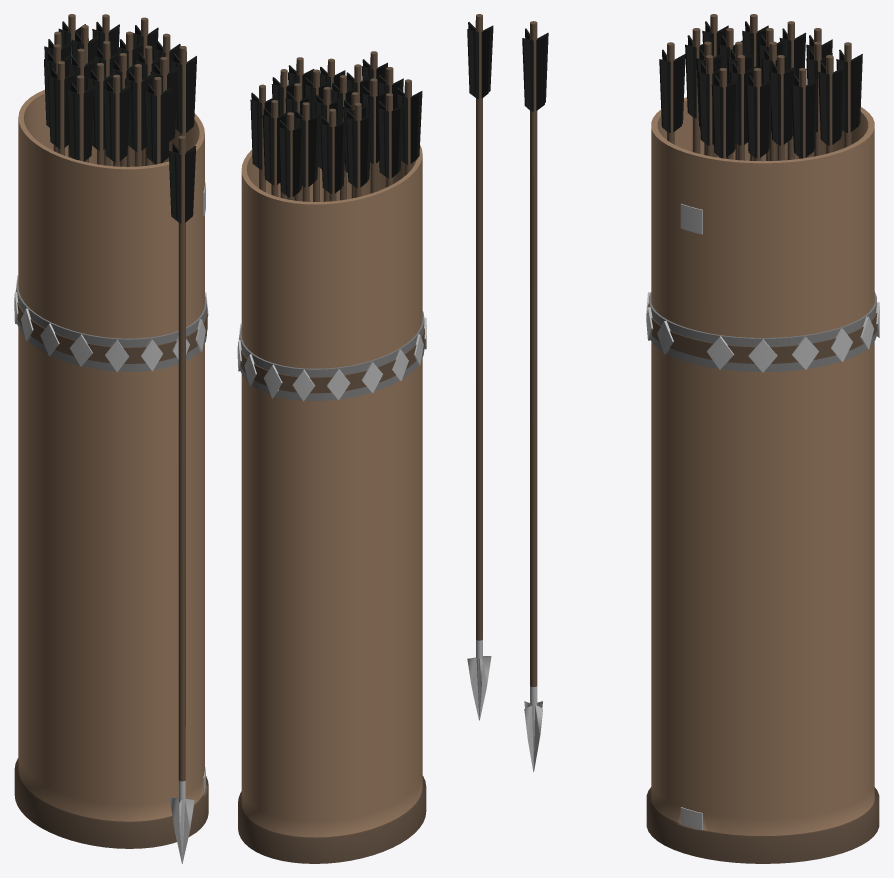
Rendered from Quiver & Arrows.fbx.
3 renders of one model, left to right at view 1: azimuth 30°, elevation 25°; view 2: azimuth 150°, elevation 25°; view 3: azimuth 270°, elevation 25°, orthographic. The views are drawn at different scales.
Parts seen in each view (by area): view 1: obj_quiver, obj_arrow21, obj_arrow08, obj_arrow18, obj_arrow09, obj_arrow10, obj_arrow17, obj_arrow01, obj_arrow07, obj_arrow11, obj_arrow20, obj_arrow14 (+9 smaller); view 2: obj_quiver, obj_arrow21, obj_arrow20, obj_arrow05, obj_arrow10, obj_arrow19, obj_arrow09, obj_arrow04, obj_arrow14, obj_arrow15, obj_arrow07, obj_arrow03 (+6 smaller); view 3: obj_quiver, obj_arrow21, obj_arrow18, obj_arrow14, obj_arrow16, obj_arrow15, obj_arrow17, obj_arrow13, obj_arrow19, obj_arrow08, obj_arrow11, obj_arrow12 (+4 smaller).
Part boxes in pixels (x1,y1,x2,y2): obj_quiver: [14, 90, 208, 848]; obj_arrow21: [168, 135, 196, 863]; obj_arrow08: [103, 74, 130, 166]; obj_arrow18: [144, 77, 171, 164]; obj_arrow09: [67, 75, 94, 161]; obj_arrow10: [48, 61, 75, 155]; obj_arrow17: [169, 46, 196, 151]; obj_arrow01: [125, 64, 152, 166]; obj_arrow07: [87, 63, 114, 165]; obj_arrow11: [150, 57, 177, 162]; obj_arrow20: [44, 44, 71, 152]; obj_arrow14: [92, 14, 119, 56]; obj_quiver: [237, 145, 426, 863]; obj_arrow21: [467, 14, 493, 720]; obj_arrow20: [346, 102, 372, 197]; obj_arrow05: [320, 108, 346, 201]; obj_arrow10: [377, 93, 403, 187]; obj_arrow19: [278, 112, 304, 200]; obj_arrow09: [396, 79, 422, 175]; obj_arrow04: [294, 102, 320, 201]; obj_arrow14: [262, 100, 288, 196]; obj_arrow15: [250, 84, 276, 192]; obj_arrow07: [361, 78, 387, 193]; obj_arrow03: [315, 86, 341, 201]; obj_quiver: [646, 97, 879, 863]; obj_arrow21: [522, 21, 548, 771]; obj_arrow18: [659, 42, 685, 144]; obj_arrow14: [818, 55, 844, 153]; obj_arrow16: [746, 68, 772, 160]; obj_arrow15: [791, 68, 817, 158]; obj_arrow17: [711, 68, 737, 158]; obj_arrow13: [769, 55, 795, 160]; obj_arrow19: [836, 42, 862, 147]; obj_arrow08: [685, 28, 711, 153]; obj_arrow11: [698, 55, 724, 156]; obj_arrow12: [730, 55, 756, 160].
Bounding box in the file's own units: 6.4 × 29.81 × 12.13.
